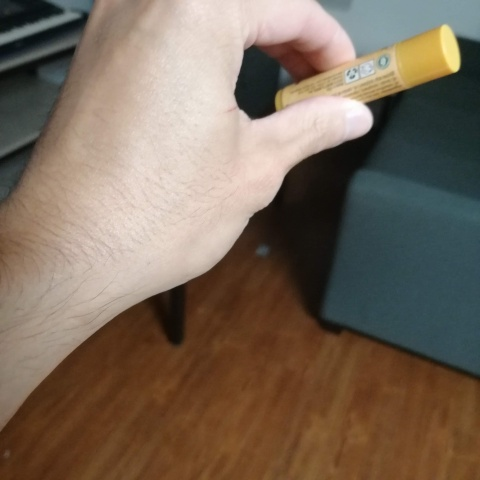chapstick: (274, 23, 464, 112)
